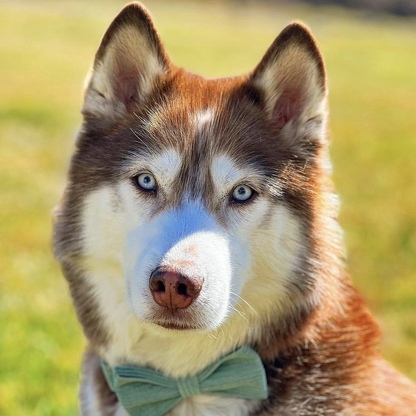husky: (46, 1, 416, 416)
